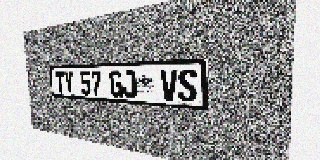5: (80, 71, 91, 95)
7: (90, 71, 102, 96)
G: (109, 70, 123, 97)
J: (122, 70, 137, 98)
S: (178, 69, 197, 102)
T: (55, 72, 65, 94)
V: (160, 69, 178, 101)
Y: (64, 71, 74, 94)
